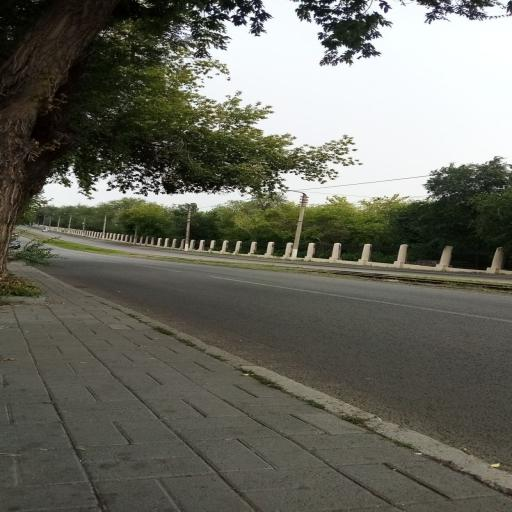construction_fence: (32, 268, 511, 495), (0, 296, 45, 304)
ramp: (44, 249, 511, 467)
shelf: (0, 265, 511, 511)
